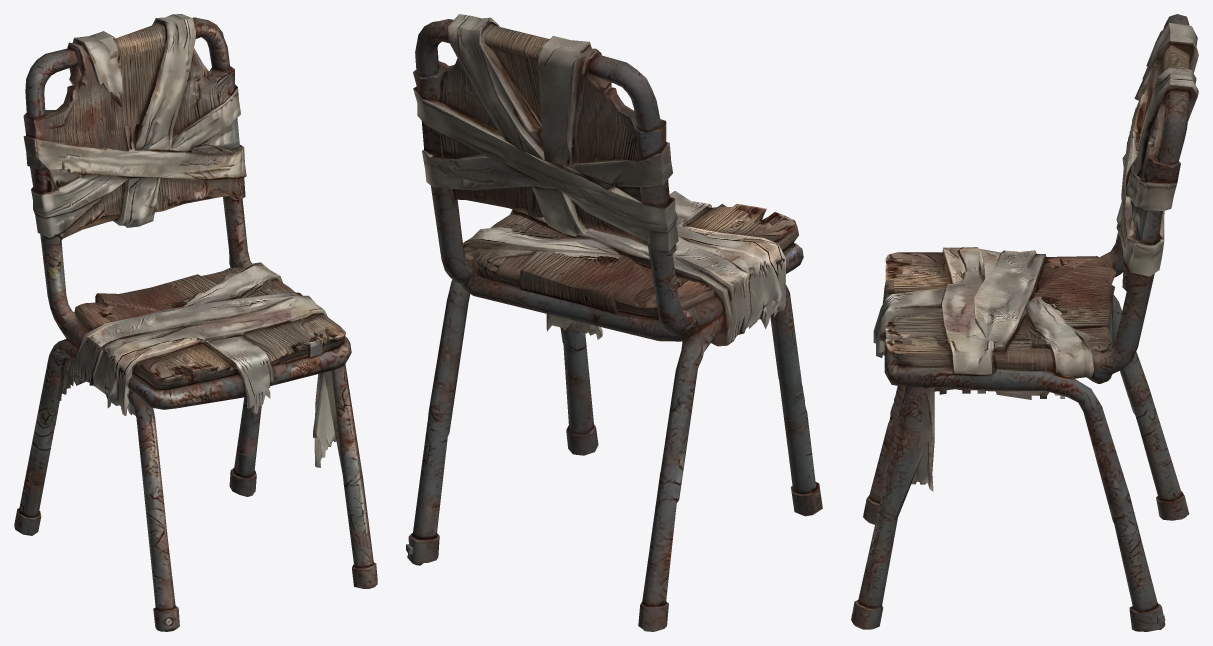
Rendered from prop_chair.glb.
3 renders of one model, left to right at view 1: azimuth 30°, elevation 25°; view 2: azimuth 150°, elevation 25°; view 3: azimuth 270°, elevation 25°, orthographic. The views are drawn at different scales.
Parts seen in each view (by area): view 1: model; view 2: model; view 3: model.
Boxes of the visible parts, x1,y1,x2,y2 form: model: (14,14,377,631); model: (406,14,822,631); model: (851,14,1198,631).
Bounding box in the file's own units: 0.9413 × 1.9 × 1.14.
1 material, 1 textured.
